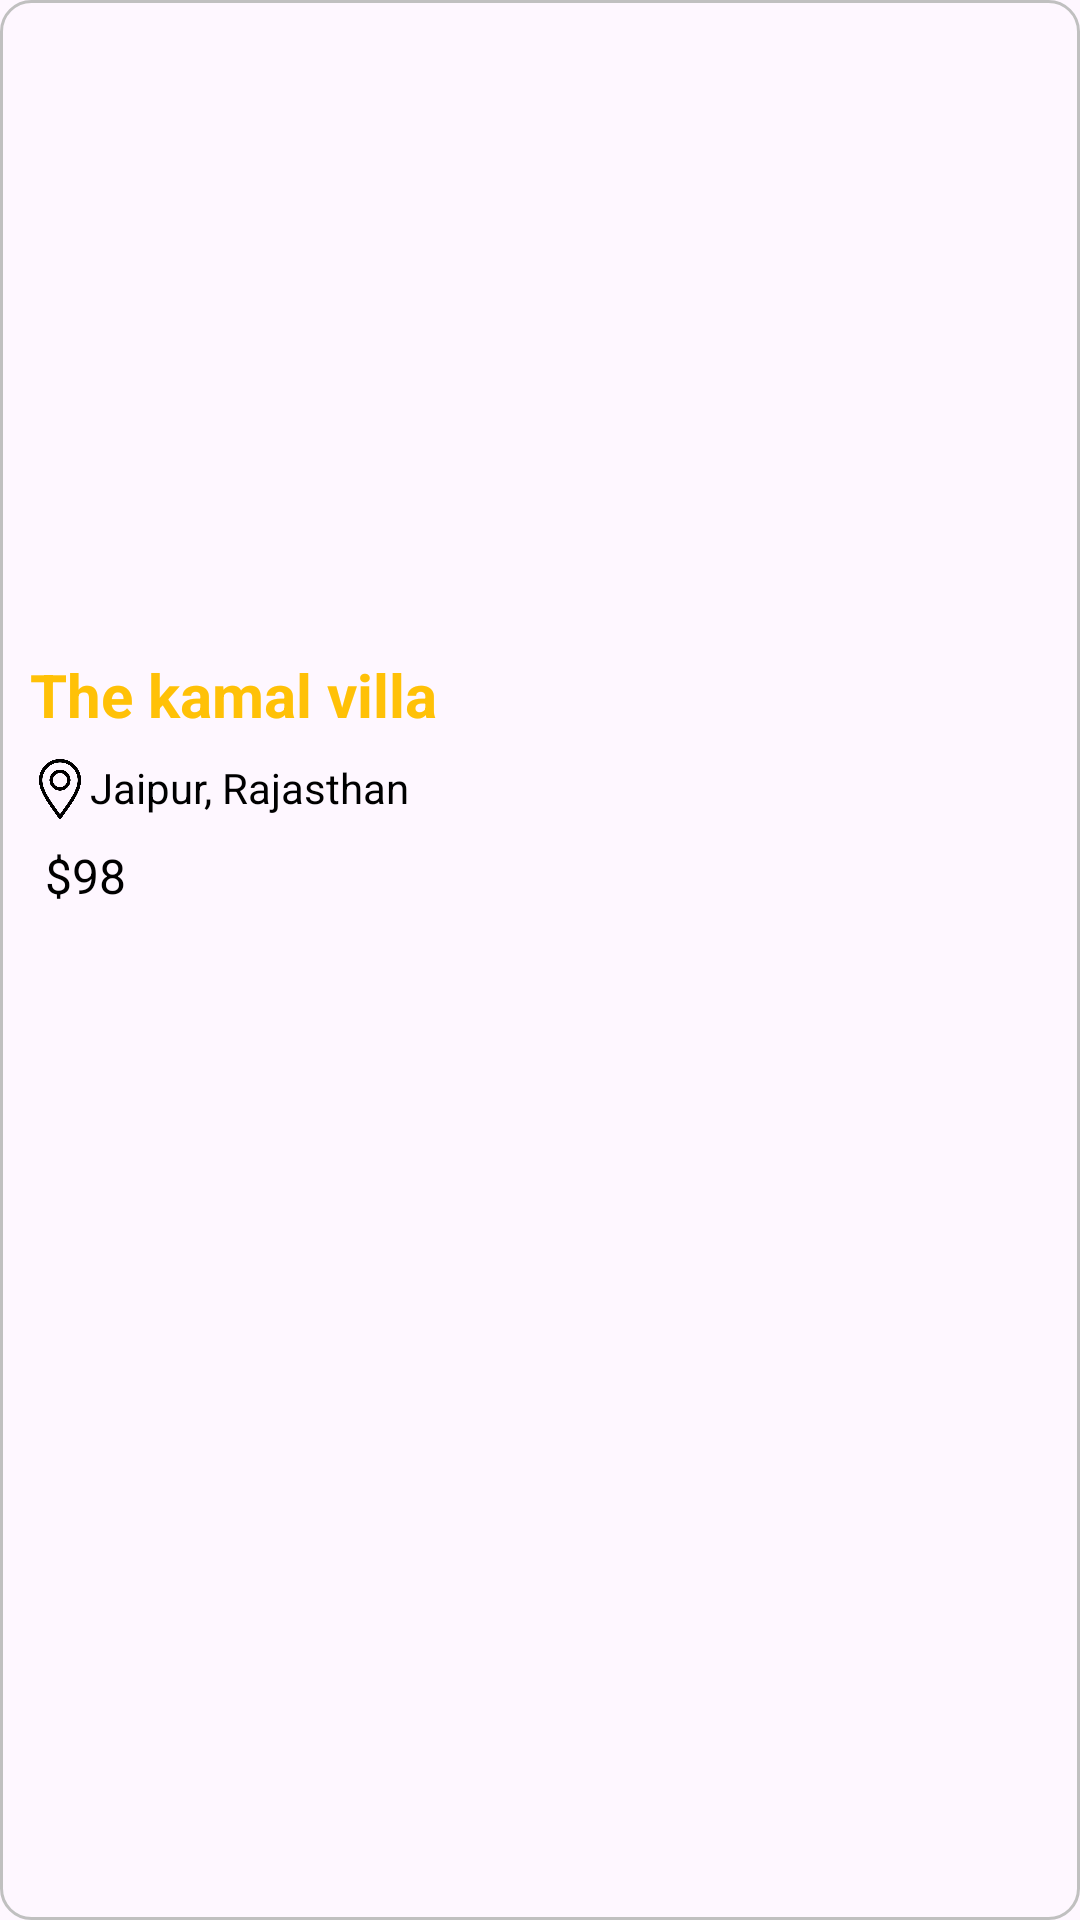

Icon bounding boxes for this 1080w x 1920h phone screenshot, format (x1,y1,x2,y2):
location: (39,759,81,819)
